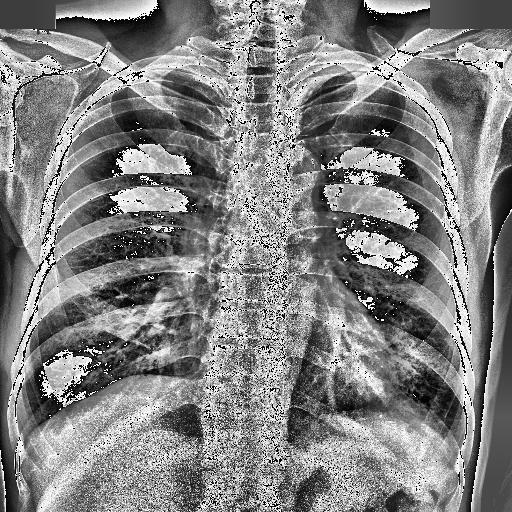5- ILD: (26, 201, 168, 423), (322, 213, 458, 430), (358, 249, 464, 431)
6- Infiltration: (394, 318, 444, 408)
